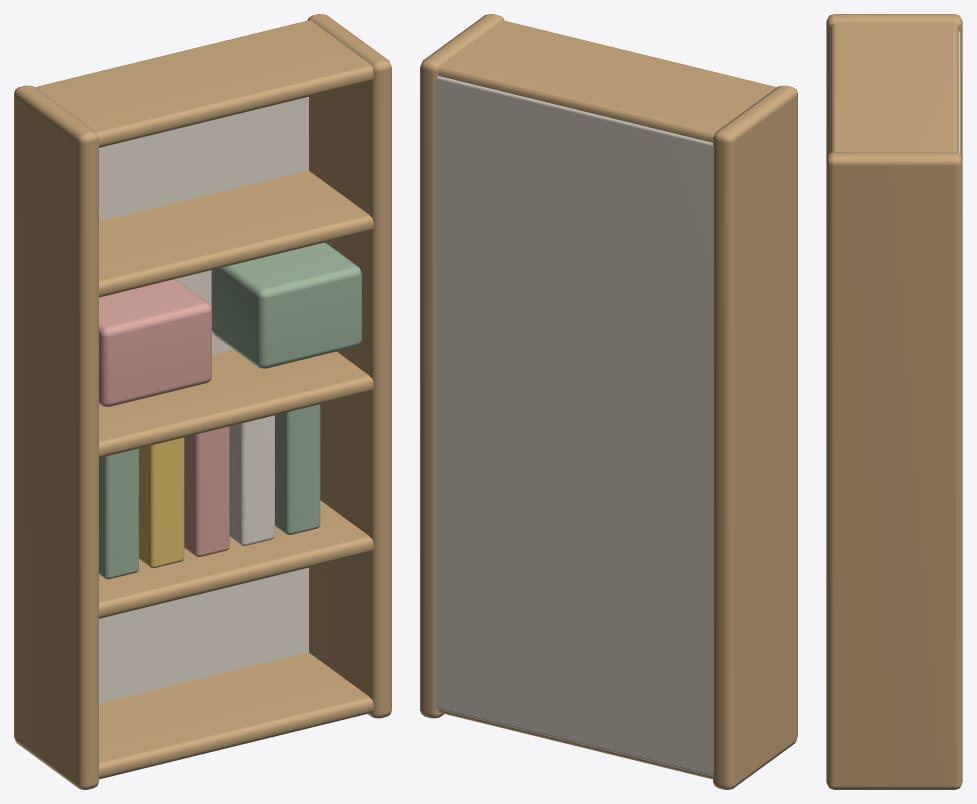
Rendered from shelf.glb.
3 renders of one model, left to right at view 1: azimuth 30°, elevation 25°; view 2: azimuth 150°, elevation 25°; view 3: azimuth 270°, elevation 25°, orthographic. The views are drawn at different scales.
Parts seen in each view (by area): view 1: side_-1, side_1, back, level_4, level_0, level_3, box_b, level_2, box_a, level_1, book_1, book_4 (+3 smaller); view 2: back, side_-1, level_4, side_1, level_0; view 3: side_1, level_4, side_-1, back.
Part boxes in pixels (x1,y1,x2,y2): side_-1: (14,85,98,789); side_1: (307,14,391,718); back: (99,97,308,703); level_4: (35,20,373,147); level_0: (99,652,373,779); level_3: (99,170,373,297); box_b: (211,242,361,368); level_2: (99,349,373,457); box_a: (99,279,211,406); level_1: (99,500,373,618); book_1: (139,437,184,568); book_4: (275,404,320,534); back: (436,76,713,776); side_-1: (713,85,797,789); level_4: (438,20,776,142); side_1: (420,14,504,718); level_0: (438,710,712,779); side_1: (826,152,962,789); level_4: (830,22,958,152); side_-1: (826,14,962,158); back: (958,31,960,154).
Bounding box in the file's own units: 0.9 × 1.8 × 0.35.
